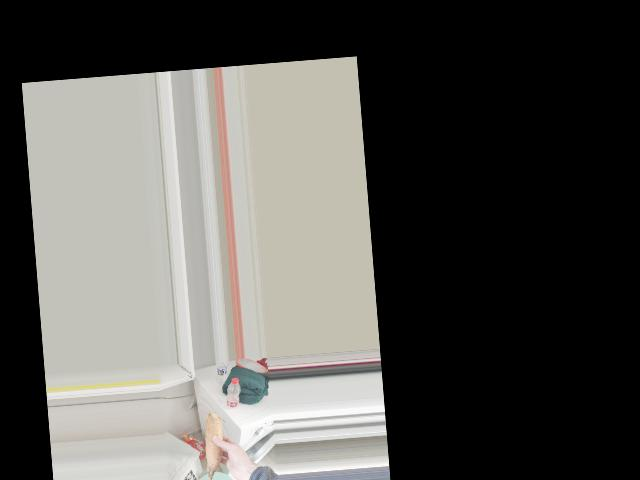sweet_potato: (203, 417, 228, 477)
